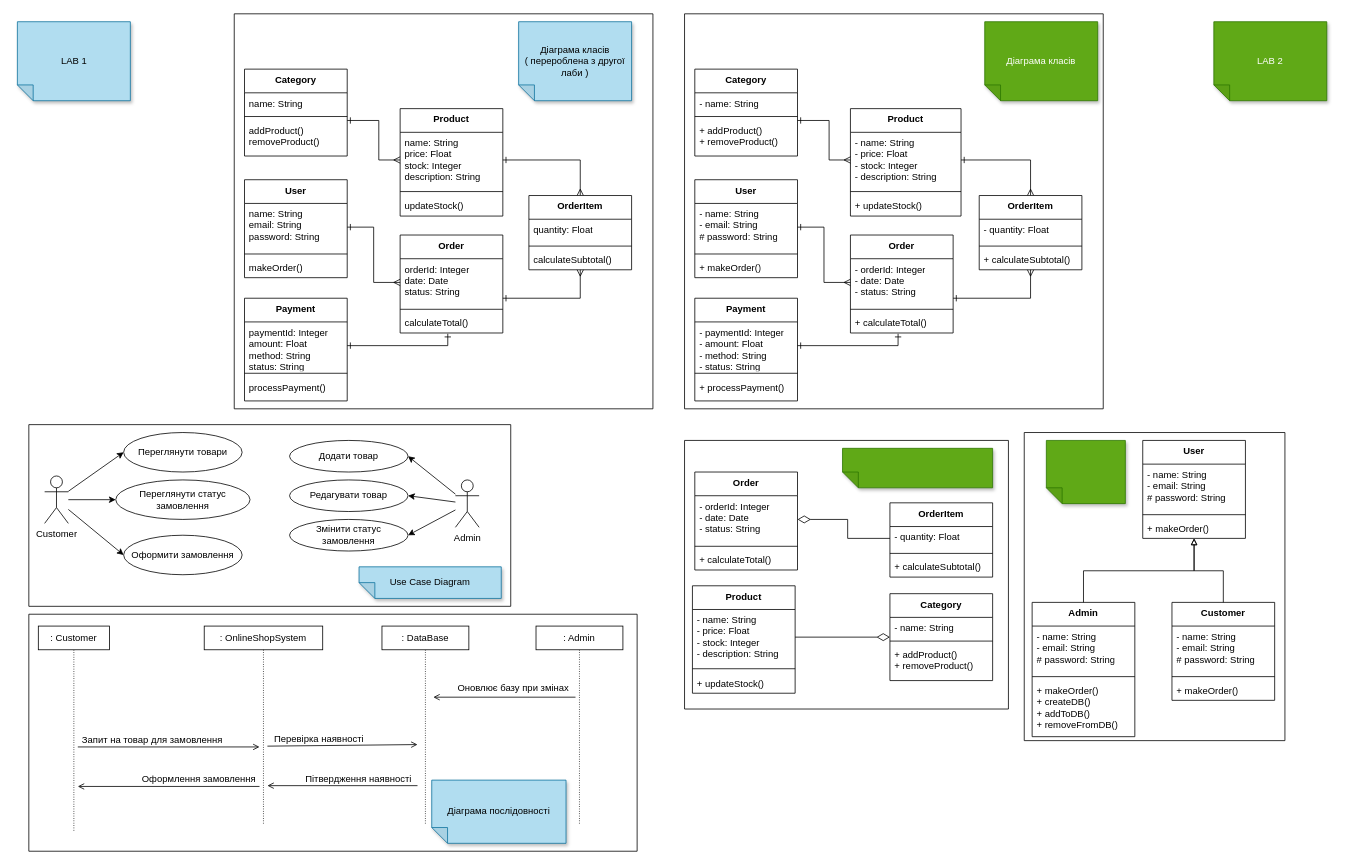
Image size: 1345x865. Some labels were removed from this diagram. The shapes that lost their labels are listed below. From the top down, each one's centre as x and y in pixels, then its label:
pixel 918 468: Агрегація
pixel 1086 472: Наслідування
